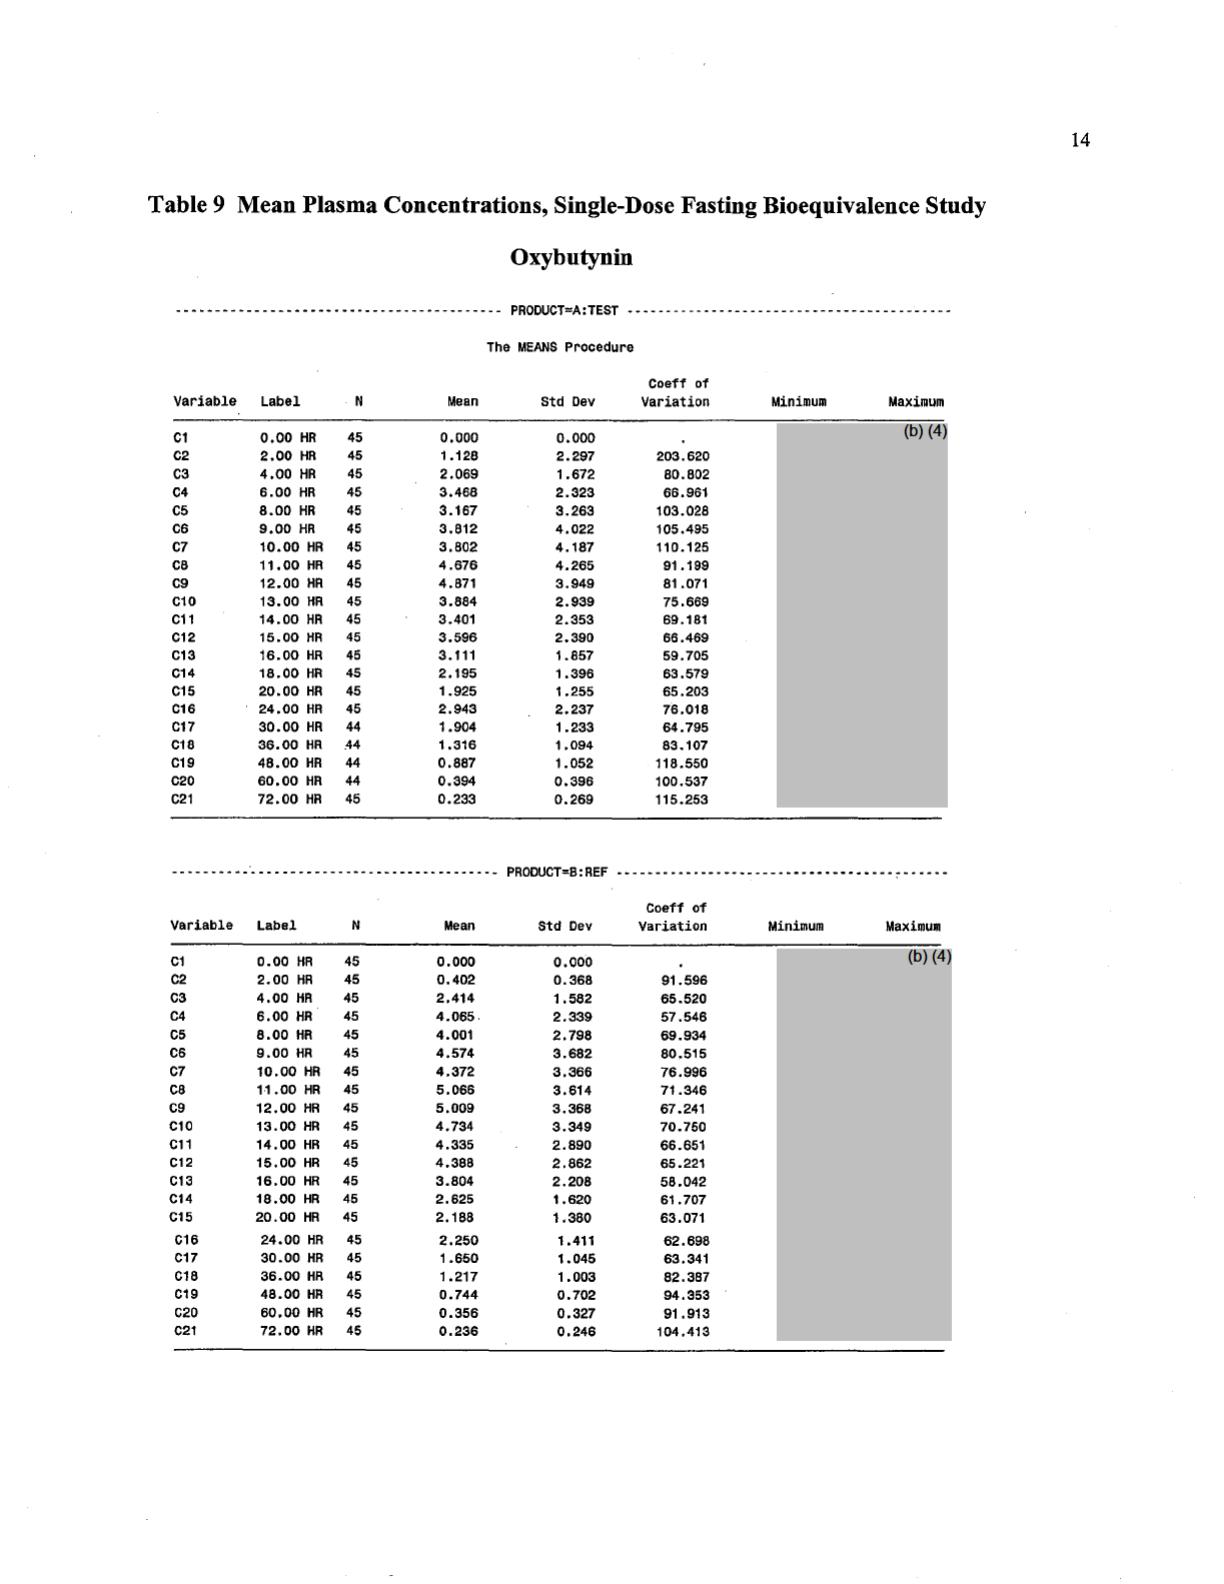partial_lined: (165, 892, 957, 1347), (165, 374, 951, 814)
